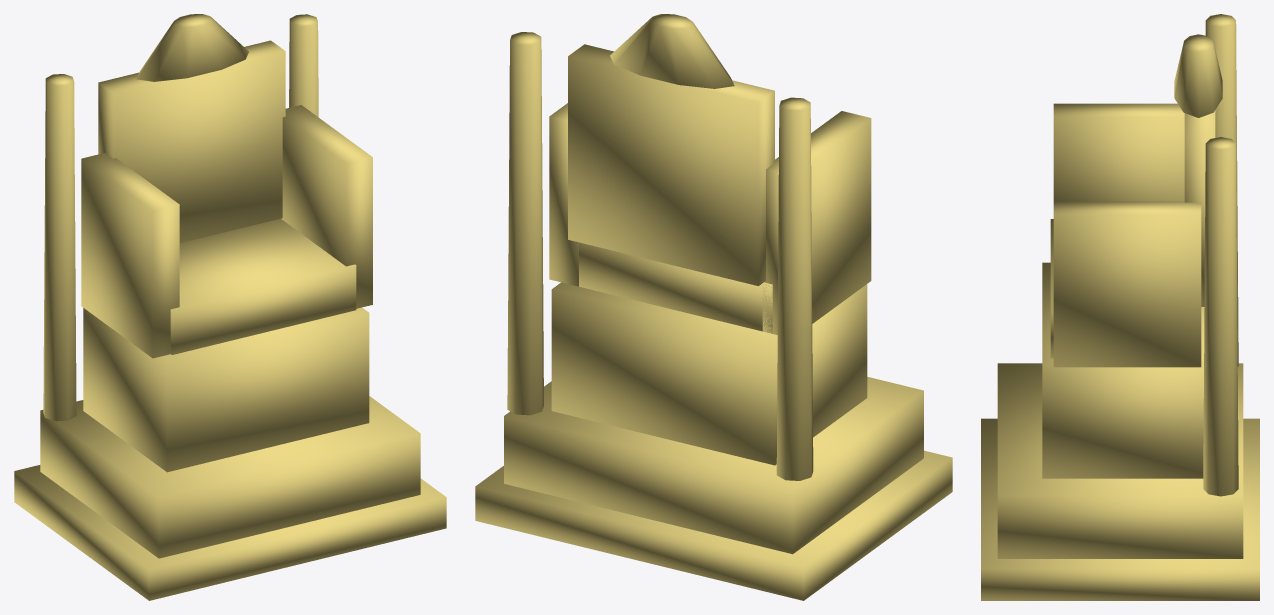
Rendered from rofan-golden-throne.glb.
The picture shows the model from 3 angles, left to right: view 1: azimuth 30°, elevation 25°; view 2: azimuth 150°, elevation 25°; view 3: azimuth 270°, elevation 25°; orthographic projection. The views are drawn at different scales.
Visible parts, largest first — view 1: rofan-golden-throne; view 2: rofan-golden-throne; view 3: rofan-golden-throne.
Boxes of the visible parts, x1,y1,x2,y2 form: rofan-golden-throne: (14,14,446,600); rofan-golden-throne: (475,14,952,600); rofan-golden-throne: (981,14,1259,600).
Bounding box in the file's own units: 1.4 × 2.1 × 1.1.
